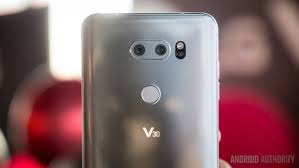lg: (78, 10, 221, 168)
